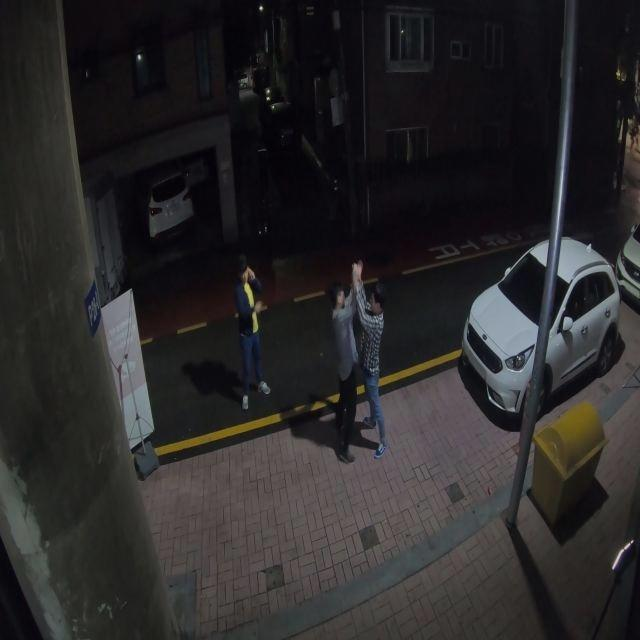fight: (321, 253, 390, 465)
non-fight: (229, 257, 272, 409)
